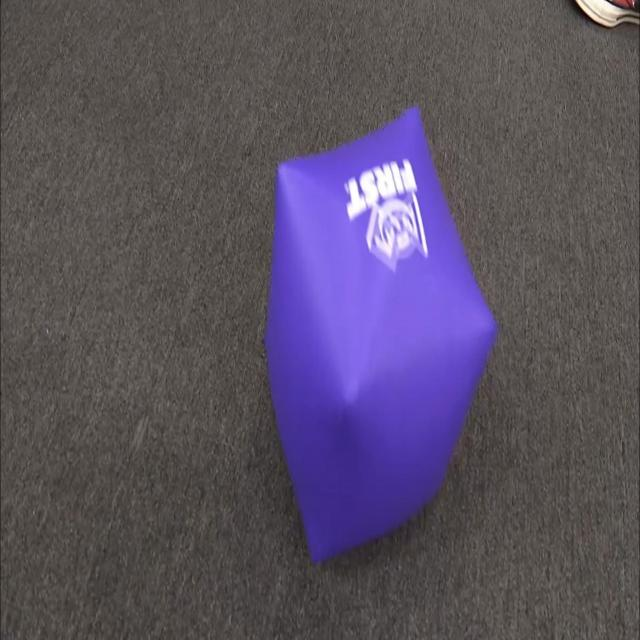frc_cube: (268, 111, 496, 562)
